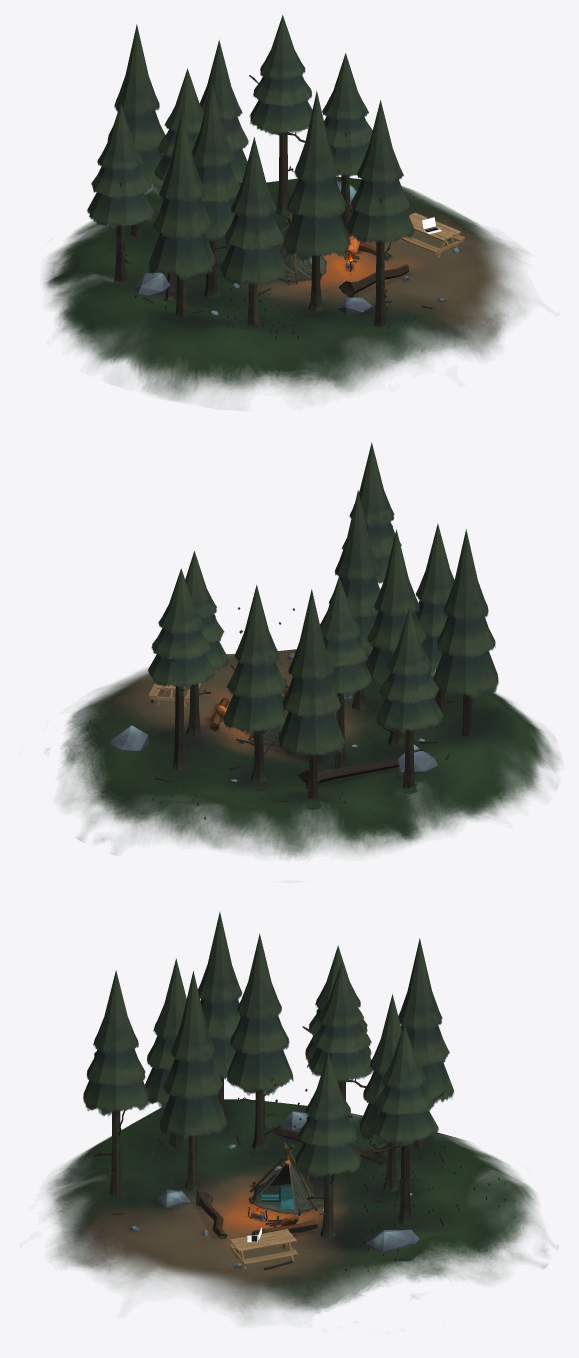
The model's file is camping-optimized.glb.
3 renders of one model, top to bottom at view 1: azimuth 30°, elevation 25°; view 2: azimuth 150°, elevation 25°; view 3: azimuth 270°, elevation 25°, orthographic.
Parts seen in each view (by area): view 1: pDisc1, polySurface119, polySurface130, polySurface104, polySurface132, polySurface121, polySurface100, polySurface118, polySurface131, polySurface120, polySurface128, polySurface106 (+28 smaller); view 2: pDisc1, polySurface130, polySurface98, polySurface132, polySurface100, polySurface121, polySurface145, polySurface118, polySurface131, polySurface99, polySurface147, polySurface152 (+23 smaller); view 3: pDisc1, pCylinder29, polySurface119, polySurface116, polySurface121, polySurface100, polySurface132, pCube6, polySurface118, polySurface128, polySurface120, polySurface112 (+29 smaller).
Boxes of the visible parts, x1,y1,x2,y2 form: pDisc1: (44, 176, 524, 400); polySurface119: (284, 214, 350, 261); polySurface130: (148, 232, 215, 281); polySurface104: (220, 245, 287, 285); polySurface132: (159, 111, 205, 201); polySurface121: (294, 90, 339, 183); polySurface100: (114, 24, 159, 116); polySurface118: (192, 81, 234, 169); polySurface131: (152, 198, 211, 240); polySurface120: (287, 177, 346, 219); polySurface128: (357, 100, 403, 184); polySurface106: (231, 137, 277, 218); pDisc1: (47, 649, 559, 858); polySurface130: (433, 650, 498, 700); polySurface98: (278, 711, 344, 757); polySurface132: (443, 529, 488, 622); polySurface100: (288, 589, 334, 681); polySurface121: (335, 490, 381, 582); polySurface145: (223, 693, 288, 734); polySurface118: (373, 529, 419, 616); polySurface131: (437, 616, 495, 658); polySurface99: (282, 675, 340, 719); polySurface147: (234, 585, 279, 667); polySurface152: (376, 698, 443, 733); pDisc1: (46, 1099, 546, 1320); pCylinder29: (248, 1143, 323, 1215); polySurface119: (160, 1094, 227, 1140); polySurface116: (227, 1050, 293, 1095); polySurface121: (171, 971, 215, 1063); polySurface100: (398, 938, 442, 1031); polySurface132: (198, 911, 242, 1005); pCube6: (131, 1110, 419, 1267); polySurface118: (237, 933, 281, 1021); polySurface128: (93, 970, 138, 1054); polySurface120: (163, 1058, 223, 1100); polySurface112: (295, 1142, 361, 1178).
Bounding box in the file's own units: 0.2997 × 0.156 × 0.2997.
Materials: 23 (14 with a texture image).
